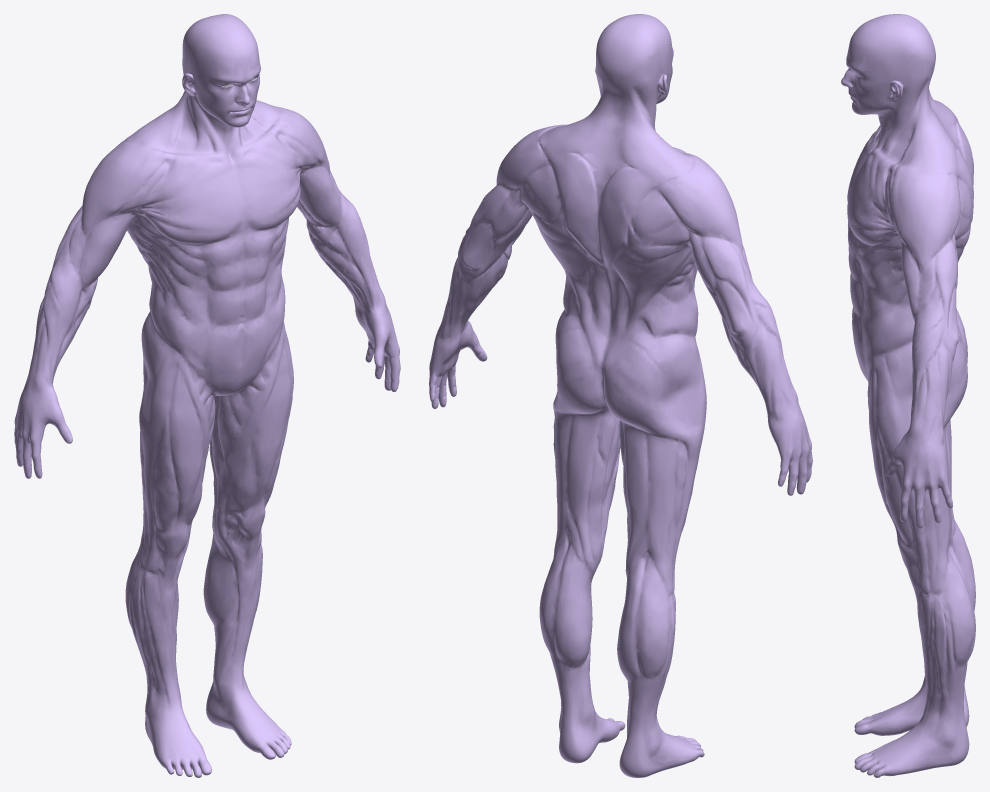
The model's file is anatomy-model.glb.
3 renders of one model, left to right at view 1: azimuth 30°, elevation 25°; view 2: azimuth 150°, elevation 25°; view 3: azimuth 270°, elevation 25°, orthographic.
Parts seen in each view (by area): view 1: Layer0_007_Layer0_0070_0; view 2: Layer0_007_Layer0_0070_0; view 3: Layer0_007_Layer0_0070_0.
Part boxes in pixels (x1,y1,x2,y2): Layer0_007_Layer0_0070_0: [14, 14, 400, 777]; Layer0_007_Layer0_0070_0: [429, 14, 812, 777]; Layer0_007_Layer0_0070_0: [841, 14, 975, 777].
Size of the model in its own units: 1.11 by 2.09 by 0.3497.
